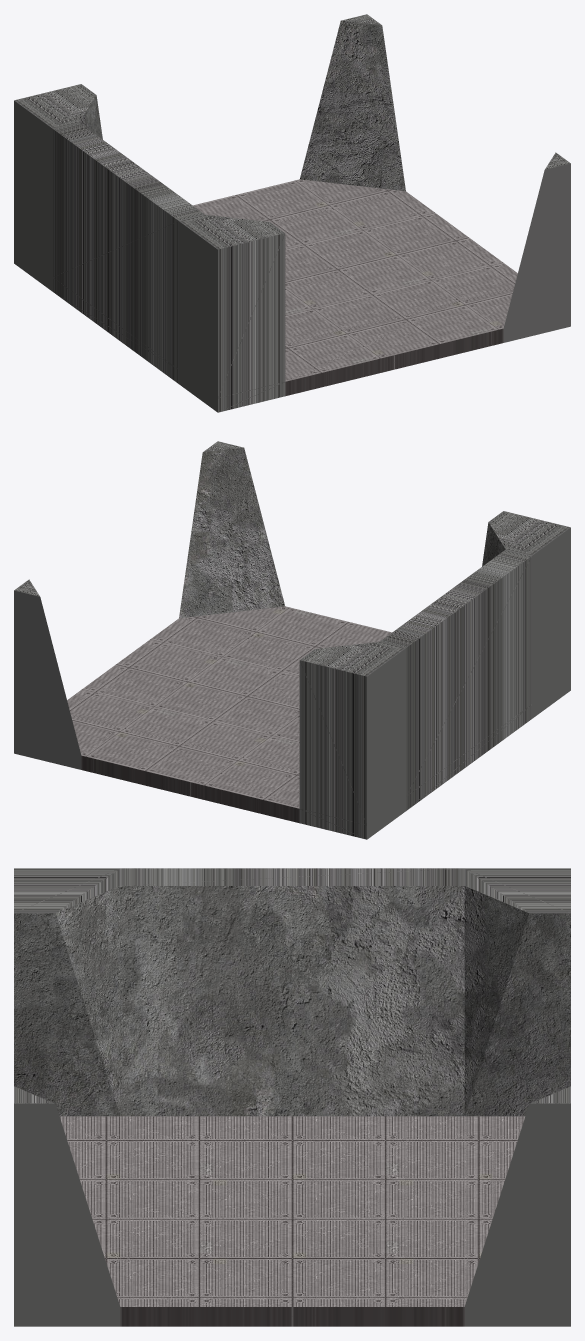
File: Corridor T.fbx
3 renders of one model, top to bottom at view 1: azimuth 30°, elevation 25°; view 2: azimuth 150°, elevation 25°; view 3: azimuth 270°, elevation 25°, orthographic. The views are drawn at different scales.
Visible parts, largest first — view 1: Corridor T; view 2: Corridor T; view 3: Corridor T.
Boxes of the visible parts, <box> form: Corridor T: <box>14,14,570,412</box>; Corridor T: <box>14,441,570,839</box>; Corridor T: <box>14,868,570,1326</box>.
Bounding box in the file's own units: 717 × 317 × 717.
